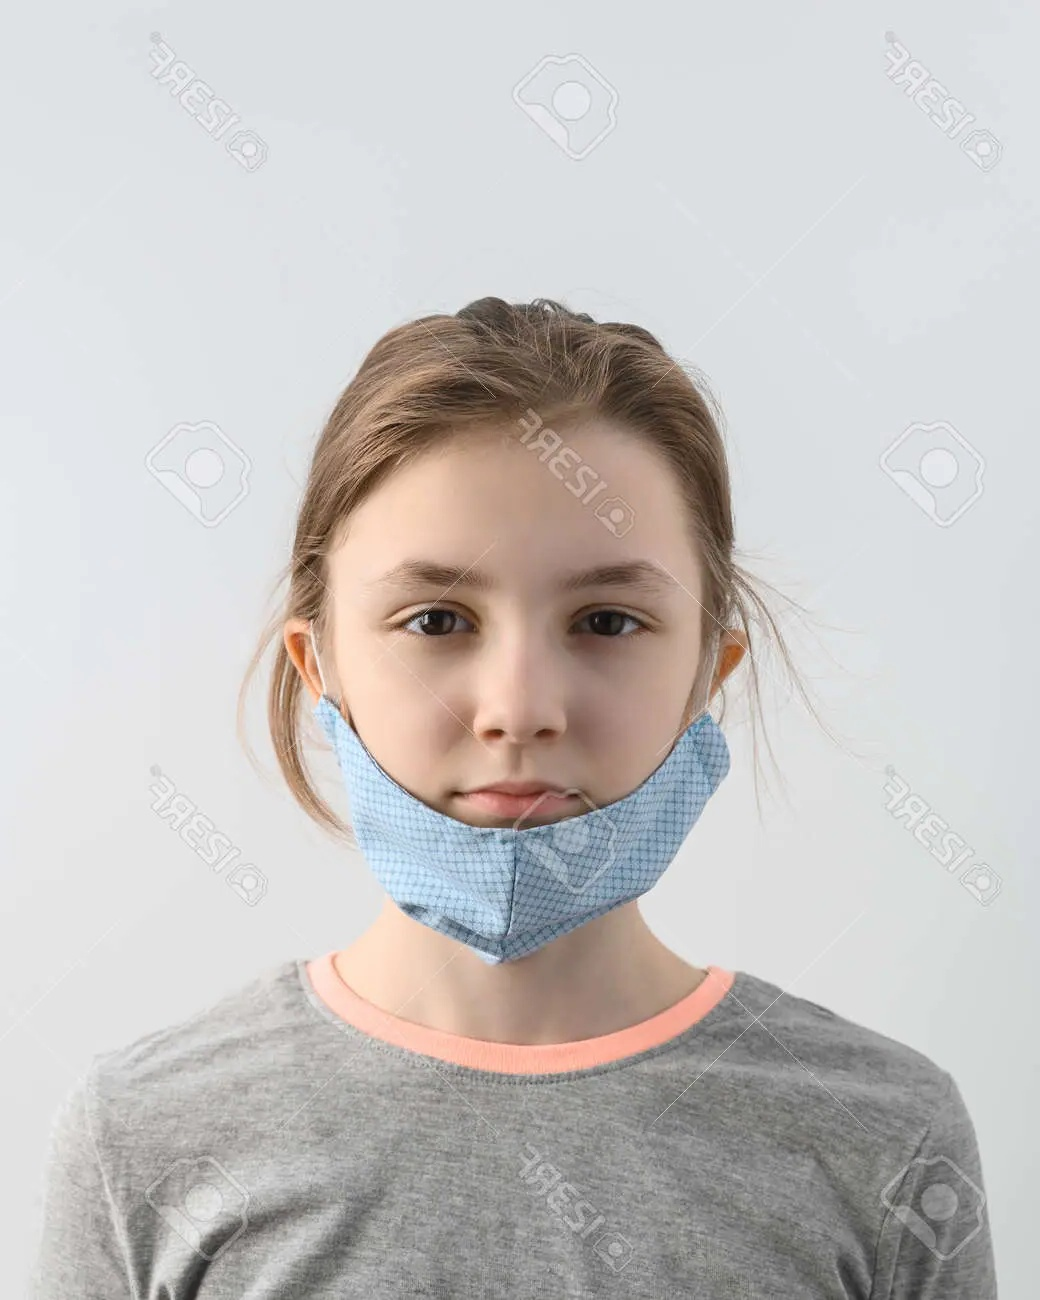mask_weared_incorrect: (320, 425, 701, 939)
